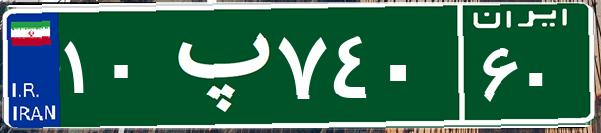0: (385, 28, 445, 110), (110, 28, 158, 105), (525, 38, 570, 115)
1: (57, 26, 110, 107)
4: (330, 28, 385, 110)
6: (475, 38, 525, 113)
7: (273, 28, 330, 110)
پ: (158, 15, 273, 115)
